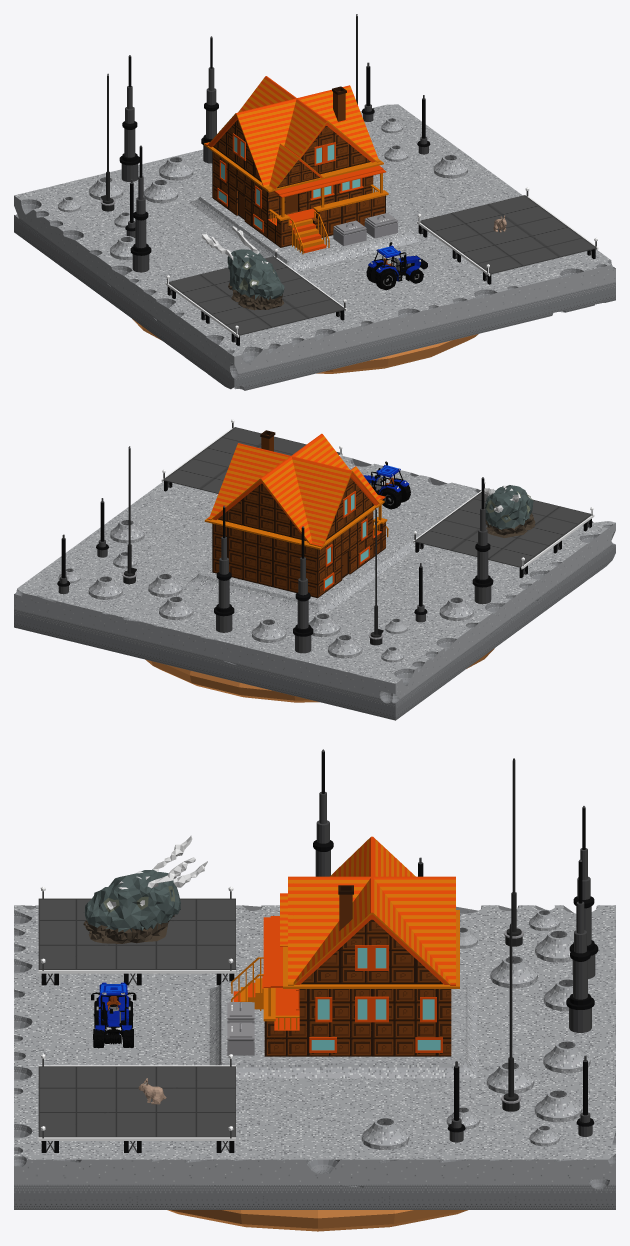
3 views of the same model, one above another, from view 1: azimuth 30°, elevation 25°; view 2: azimuth 150°, elevation 25°; view 3: azimuth 270°, elevation 25° (orthographic). The views are drawn at different scales.
Visible parts, largest first — view 1: Cube.027, Cube, Cube.026, Cube.025, Cube.028, OBJRANDOM_METEORITE, VEHICLES_TRACTOR, UNDERGROUND_PIZZA, Cylinder.021, Cylinder.020, Cylinder.017, Cube.029 (+5 smaller); view 2: Cube.027, Cube, Cube.025, Cube.028, Cube.026, OBJRANDOM_METEORITE, UNDERGROUND_PIZZA, Cylinder.021, Cylinder.020, Cylinder.017, VEHICLES_TRACTOR, Cylinder.030 (+9 smaller); view 3: Cube.027, Cube, Cube.026, Cube.025, Cube.028, OBJRANDOM_METEORITE, UNDERGROUND_PIZZA, VEHICLES_TRACTOR, Cylinder.017, Cylinder.020, Cylinder.021, Cylinder.031 (+10 smaller).
Part boxes in pixels (bbox=[...]): Cube.027: bbox=[14, 104, 615, 390]; Cube: bbox=[204, 76, 388, 254]; Cube.026: bbox=[417, 187, 598, 284]; Cube.025: bbox=[165, 249, 347, 345]; Cube.028: bbox=[190, 193, 420, 271]; OBJRANDOM_METEORITE: bbox=[201, 226, 284, 310]; VEHICLES_TRACTOR: bbox=[366, 242, 427, 290]; UNDERGROUND_PIZZA: bbox=[132, 319, 478, 373]; Cylinder.021: bbox=[130, 145, 151, 272]; Cylinder.020: bbox=[119, 55, 139, 181]; Cylinder.017: bbox=[201, 36, 218, 163]; Cube.029: bbox=[333, 220, 366, 245]; Cube.027: bbox=[14, 456, 615, 720]; Cube: bbox=[204, 430, 388, 598]; Cube.025: bbox=[413, 481, 594, 577]; Cube.028: bbox=[188, 533, 415, 614]; Cube.026: bbox=[161, 419, 342, 493]; OBJRANDOM_METEORITE: bbox=[484, 484, 535, 537]; UNDERGROUND_PIZZA: bbox=[145, 648, 494, 702]; Cylinder.021: bbox=[472, 477, 493, 604]; Cylinder.020: bbox=[293, 526, 313, 653]; Cylinder.017: bbox=[214, 505, 234, 632]; VEHICLES_TRACTOR: bbox=[363, 461, 410, 509]; Cylinder.030: bbox=[148, 573, 182, 597]; Cube.027: bbox=[14, 905, 615, 1209]; Cube: bbox=[231, 836, 459, 1056]; Cube.026: bbox=[38, 1054, 235, 1152]; Cube.025: bbox=[38, 886, 235, 985]; Cube.028: bbox=[209, 981, 477, 1078]; OBJRANDOM_METEORITE: bbox=[83, 835, 207, 943]; UNDERGROUND_PIZZA: bbox=[167, 1210, 467, 1231]; VEHICLES_TRACTOR: bbox=[91, 982, 136, 1048]; Cylinder.017: bbox=[566, 859, 594, 1032]; Cylinder.020: bbox=[569, 806, 598, 978]; Cylinder.021: bbox=[313, 749, 333, 876]; Cylinder.031: bbox=[534, 1089, 582, 1122].
Bounding box in the file's own units: 4000 × 2011 × 4000.
38 materials, 5 textured.
